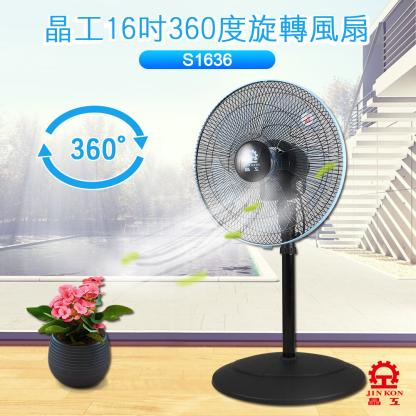fan: (192, 75, 370, 409)
